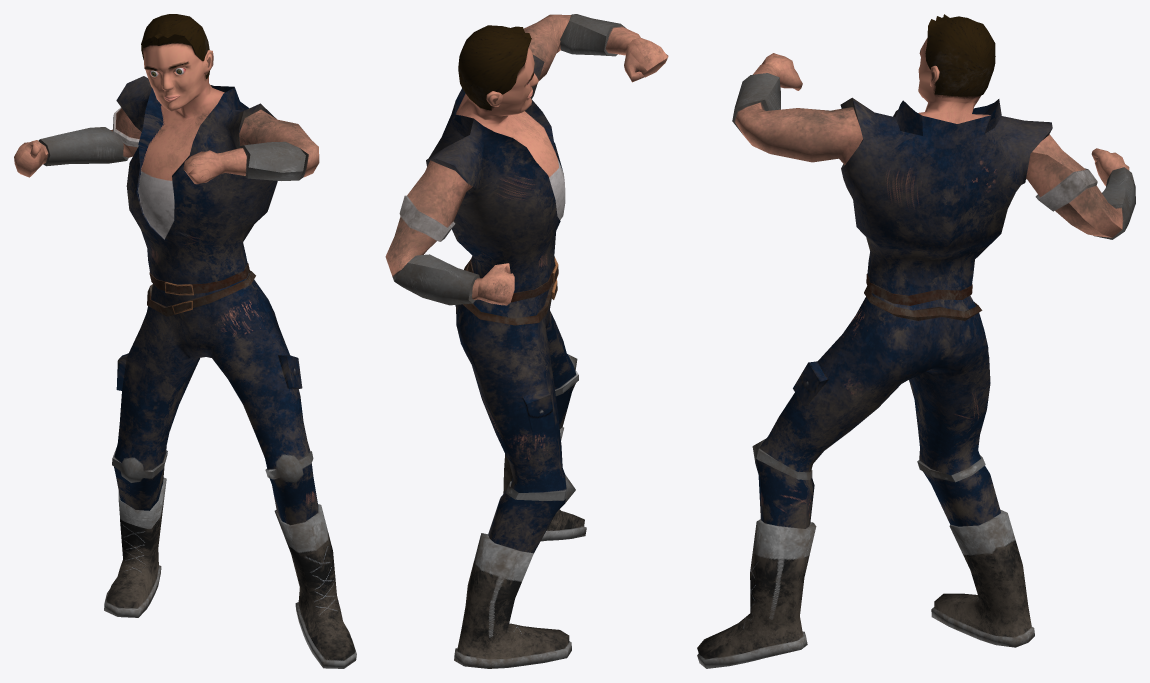
The model's file is Anim_especial_jugador.0020.obj.
The picture shows the model from 3 angles, left to right: view 1: azimuth 30°, elevation 25°; view 2: azimuth 150°, elevation 25°; view 3: azimuth 270°, elevation 25°; orthographic projection. The views are drawn at different scales.
Visible parts, largest first — view 1: polySurface1; view 2: polySurface1; view 3: polySurface1.
Part boxes in pixels (x1,y1,x2,y2): polySurface1: (14, 14, 356, 668); polySurface1: (385, 14, 668, 668); polySurface1: (697, 14, 1135, 668).
Bounding box in the file's own units: 2.74 × 9.37 × 5.97.
